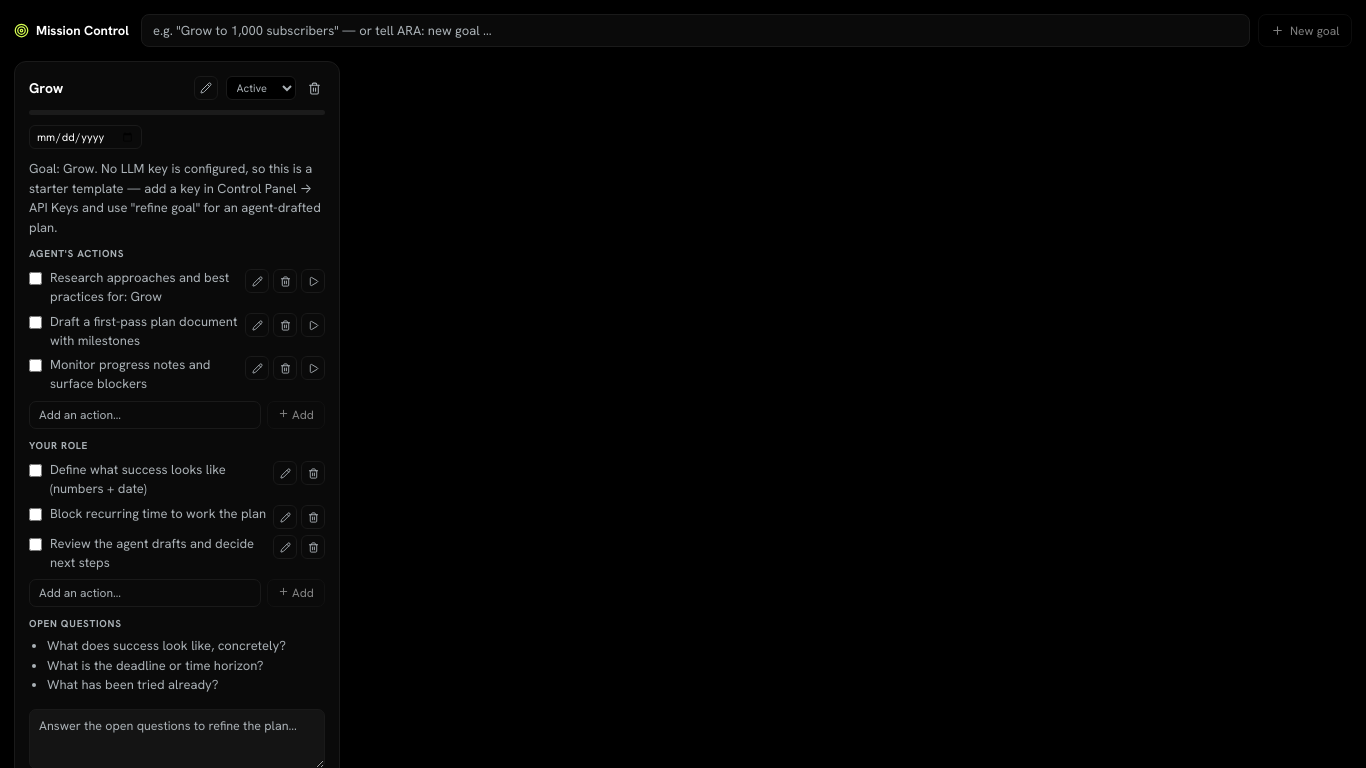
Test: target date + due badge › today
This screenshot has width=1366, height=768.
Step 1. Type "2026-01-15" into the date field named "Target date for Grow" → coordinates (86, 137), box [29,125,142,149]
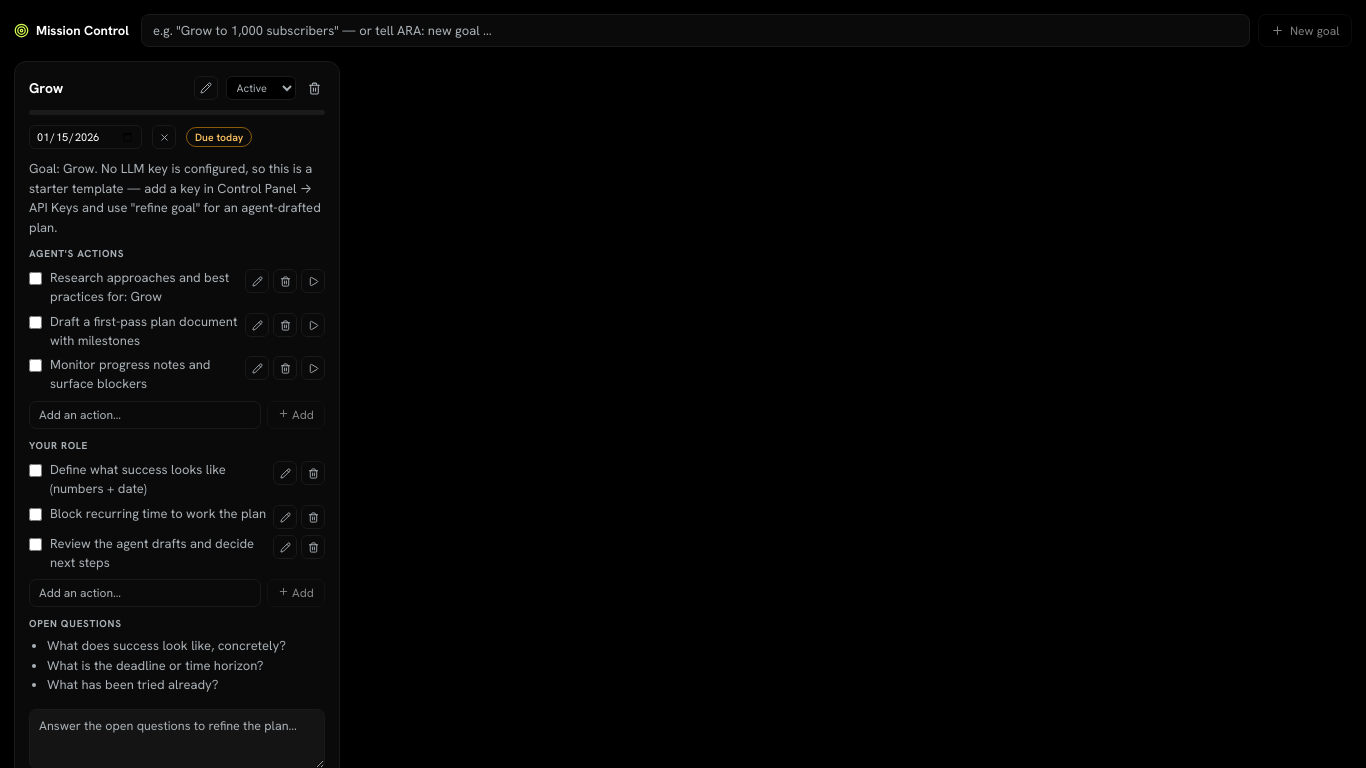
expect the text "Due today" is shown: met, box [186,127,252,147]
